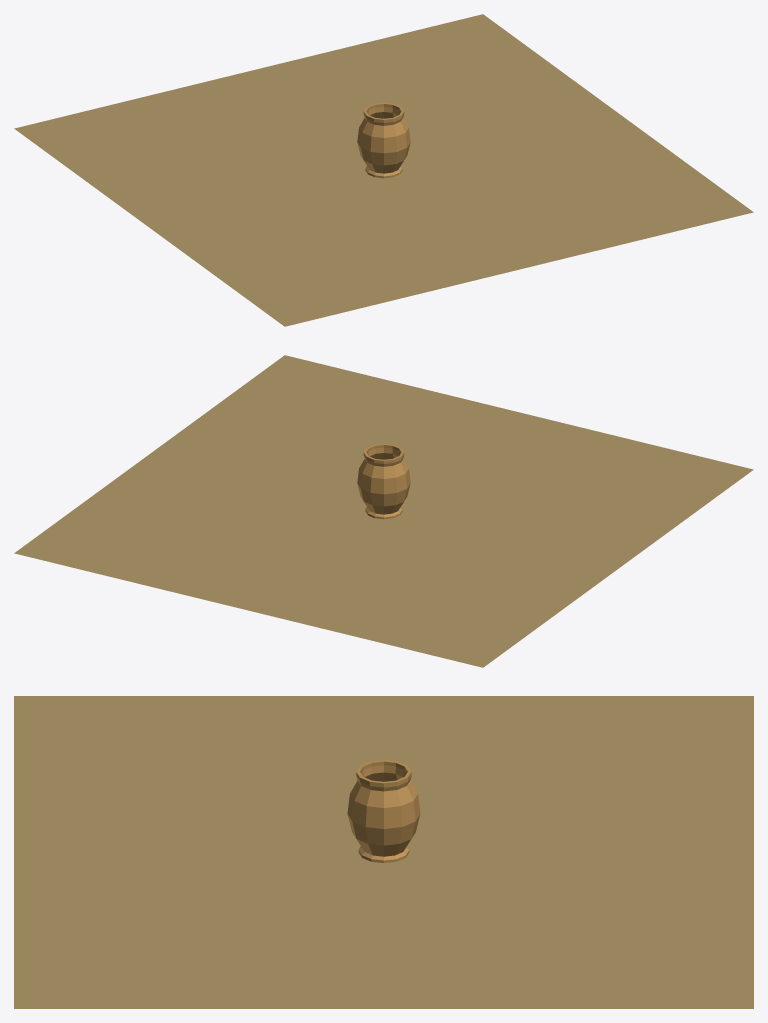
File: Tile 43_Combined.fbx
The picture shows the model from 3 angles, top to bottom: view 1: azimuth 30°, elevation 25°; view 2: azimuth 150°, elevation 25°; view 3: azimuth 270°, elevation 25°; orthographic projection. The views are drawn at different scales.
Parts seen in each view (by area): view 1: MeshBaker_mesh_mesh; view 2: MeshBaker_mesh_mesh; view 3: MeshBaker_mesh_mesh.
Part boxes in pixels (x1=…): MeshBaker_mesh_mesh: x1=14, y1=14, x2=753, y2=326; MeshBaker_mesh_mesh: x1=14, y1=355, x2=753, y2=667; MeshBaker_mesh_mesh: x1=14, y1=696, x2=753, y2=1008.
Size of the model in its own units: 3000 by 362 by 3000.
